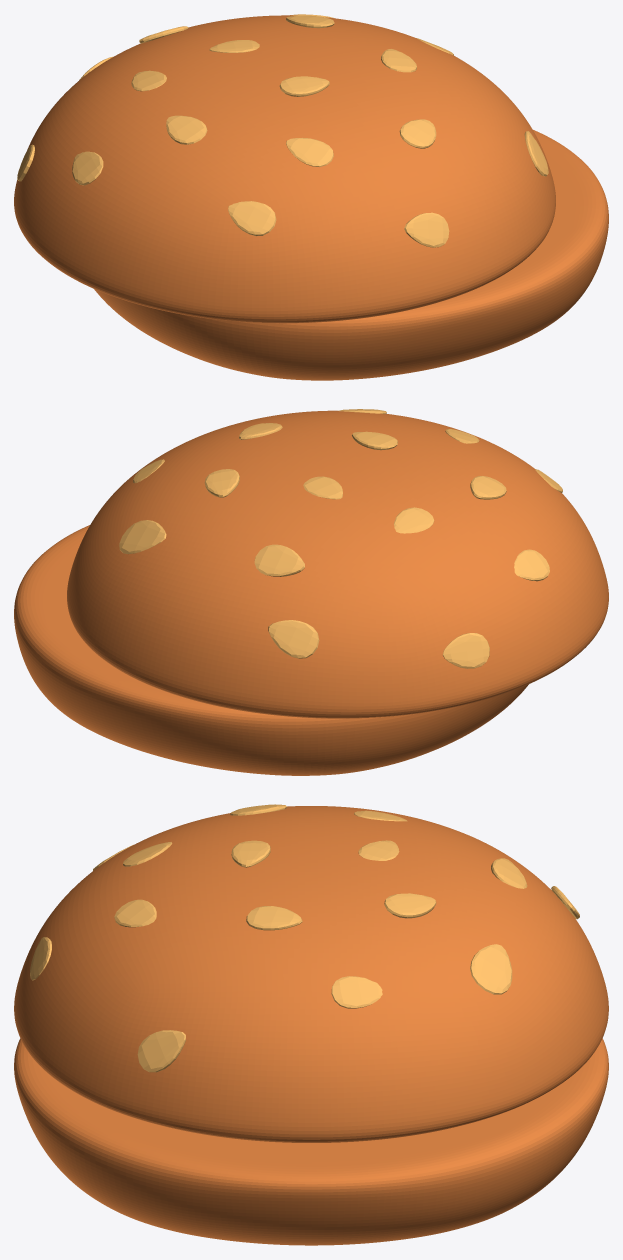
File: bread.fbx
3 views of the same model, one above another, from view 1: azimuth 30°, elevation 25°; view 2: azimuth 150°, elevation 25°; view 3: azimuth 270°, elevation 25° (orthographic). The views are drawn at different scales.
Visible parts, largest first — view 1: BreadTop, BreadBottom, Plane.009, Plane.018, Plane.013, Plane.012, Plane.010, Plane.008, Plane.005, Plane.006, Plane.004, sesame (+2 smaller); view 2: BreadTop, BreadBottom, Plane.015, Plane.017, Plane.016, Plane.011, Plane.008, Plane.004, Plane.014, Plane.003, Plane.012, Plane.005; view 3: BreadTop, BreadBottom, Plane.011, sesame, Plane.007, Plane.006, Plane.014, Plane.010, Plane.005, Plane.016, Plane.003, Plane.018.
Part boxes in pixels (bbox=[...]): BreadTop: bbox=[14, 15, 555, 323]; BreadBottom: bbox=[94, 130, 608, 380]; Plane.009: bbox=[228, 201, 276, 236]; Plane.018: bbox=[404, 212, 449, 247]; Plane.013: bbox=[286, 137, 333, 166]; Plane.012: bbox=[166, 115, 207, 144]; Plane.010: bbox=[399, 119, 436, 148]; Plane.008: bbox=[72, 151, 103, 185]; Plane.005: bbox=[279, 76, 329, 96]; Plane.006: bbox=[381, 49, 416, 72]; Plane.004: bbox=[131, 70, 166, 91]; sesame: bbox=[524, 131, 548, 176]; BreadTop: bbox=[67, 410, 608, 718]; BreadBottom: bbox=[14, 525, 528, 775]; Plane.015: bbox=[268, 620, 319, 658]; Plane.017: bbox=[442, 633, 489, 668]; Plane.016: bbox=[254, 544, 304, 576]; Plane.011: bbox=[119, 520, 166, 554]; Plane.008: bbox=[514, 549, 549, 581]; Plane.004: bbox=[393, 507, 434, 533]; Plane.014: bbox=[204, 469, 239, 497]; Plane.003: bbox=[303, 476, 342, 499]; Plane.012: bbox=[470, 476, 506, 499]; Plane.005: bbox=[352, 431, 397, 450]; BreadTop: bbox=[14, 806, 608, 1142]; BreadBottom: bbox=[14, 1038, 608, 1245]; Plane.011: bbox=[470, 944, 512, 994]; sesame: bbox=[137, 1030, 185, 1072]; Plane.007: bbox=[331, 976, 382, 1008]; Plane.006: bbox=[246, 906, 302, 930]; Plane.014: bbox=[384, 893, 436, 918]; Plane.010: bbox=[114, 899, 156, 927]; Plane.005: bbox=[231, 840, 270, 867]; Plane.016: bbox=[491, 858, 527, 888]; Plane.003: bbox=[358, 840, 399, 860]; Plane.018: bbox=[30, 937, 51, 980].
Bounding box in the file's own units: 219 × 104 × 197.
